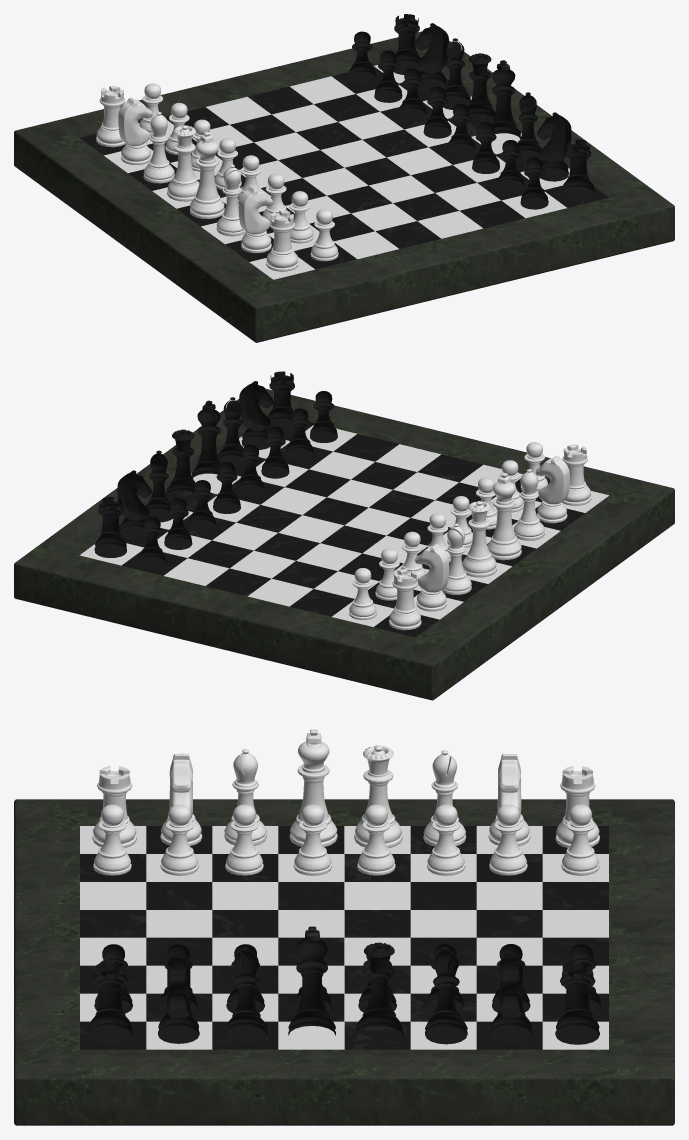
The model's file is chess_board.glb.
The picture shows the model from 3 angles, top to bottom: view 1: azimuth 30°, elevation 25°; view 2: azimuth 150°, elevation 25°; view 3: azimuth 270°, elevation 25°; orthographic projection. The views are drawn at different scales.
Visible parts, largest first — view 1: Cube.006, King, Knight, Knight.001, Knight.B.001, Knight.B, Queen, Rook.001, Rook.B.001, King.B, Bishop.001, Rook (+20 smaller); view 2: Cube.006, King, Knight.001, Knight, Knight.B, Knight.B.001, Queen, Rook, Rook.B, King.B, Bishop, Bishop.001 (+21 smaller); view 3: Cube.006, King.B, Rook.B.001, Rook.B, King, Knight.B.001, Knight.B, Bishop.B.001, Bishop.B, Queen.B, Queen, Pawn.006 (+18 smaller).
Boxes of the visible parts, x1,y1,x2,y2 form: Cube.006: (14, 31, 674, 342); King: (190, 131, 224, 219); Knight: (238, 185, 272, 253); Knight.001: (118, 97, 152, 164); Knight.B.001: (537, 112, 571, 181); Knight.B: (414, 23, 448, 92); Queen: (167, 125, 199, 201); Rook.001: (266, 210, 298, 271); Rook.B.001: (562, 139, 594, 200); King.B: (492, 60, 520, 138); Bishop.001: (143, 112, 174, 183); Rook: (96, 86, 125, 147); Cube.006: (14, 388, 674, 700); King: (487, 472, 521, 560); Knight.001: (415, 543, 449, 611); Knight: (535, 455, 569, 523); Knight.B: (117, 470, 151, 539); Knight.B.001: (239, 381, 273, 449); Queen: (462, 501, 496, 577); Rook: (389, 569, 421, 630); Rook.B: (94, 497, 126, 557); King.B: (191, 400, 220, 477); Bishop: (514, 469, 544, 540); Bishop.001: (442, 523, 471, 594); Cube.006: (14, 799, 674, 1125); King.B: (288, 926, 335, 1035); Rook.B.001: (88, 961, 132, 1044); Rook.B: (555, 961, 599, 1044); King: (289, 729, 337, 847); Knight.B.001: (158, 954, 199, 1043); Knight.B: (490, 954, 532, 1043); Bishop.B.001: (425, 946, 467, 1044); Bishop.B: (225, 946, 267, 1044); Queen.B: (355, 942, 403, 1038); Queen: (354, 745, 402, 847); Pawn.006: (160, 804, 198, 875).
Bounding box in the file's own units: 9.7 × 2.56 × 9.7.
5 materials, 5 textured.
